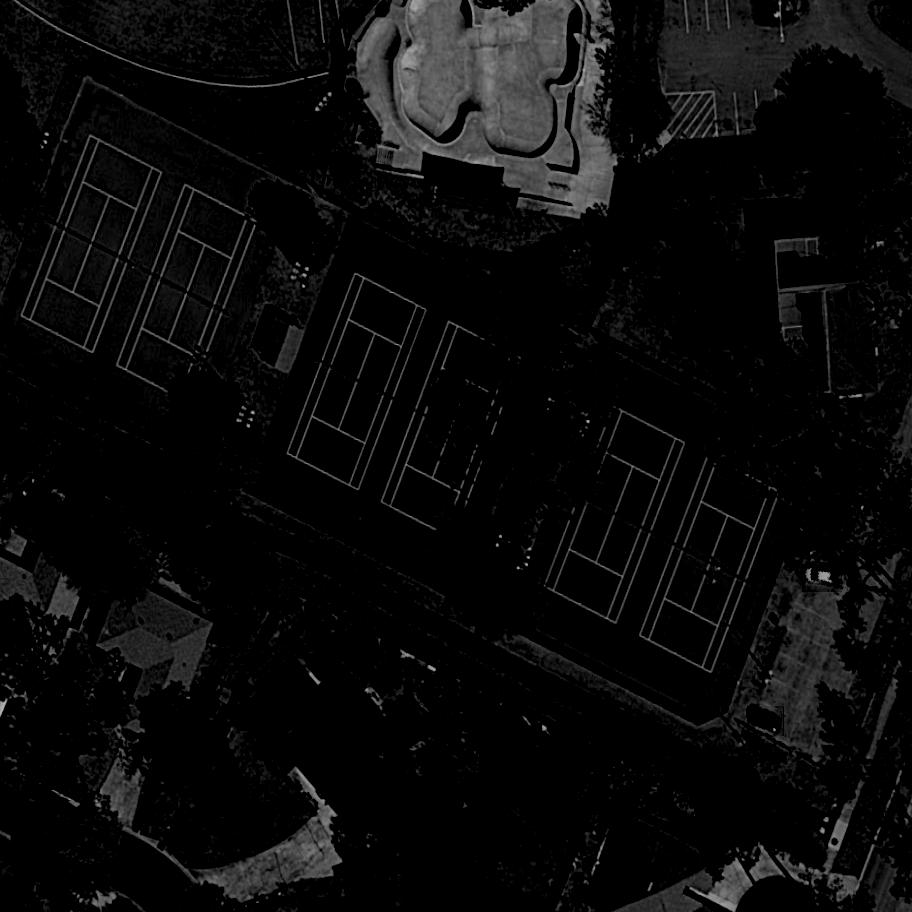small-vehicle: (746, 707, 786, 736), (801, 566, 845, 592)
